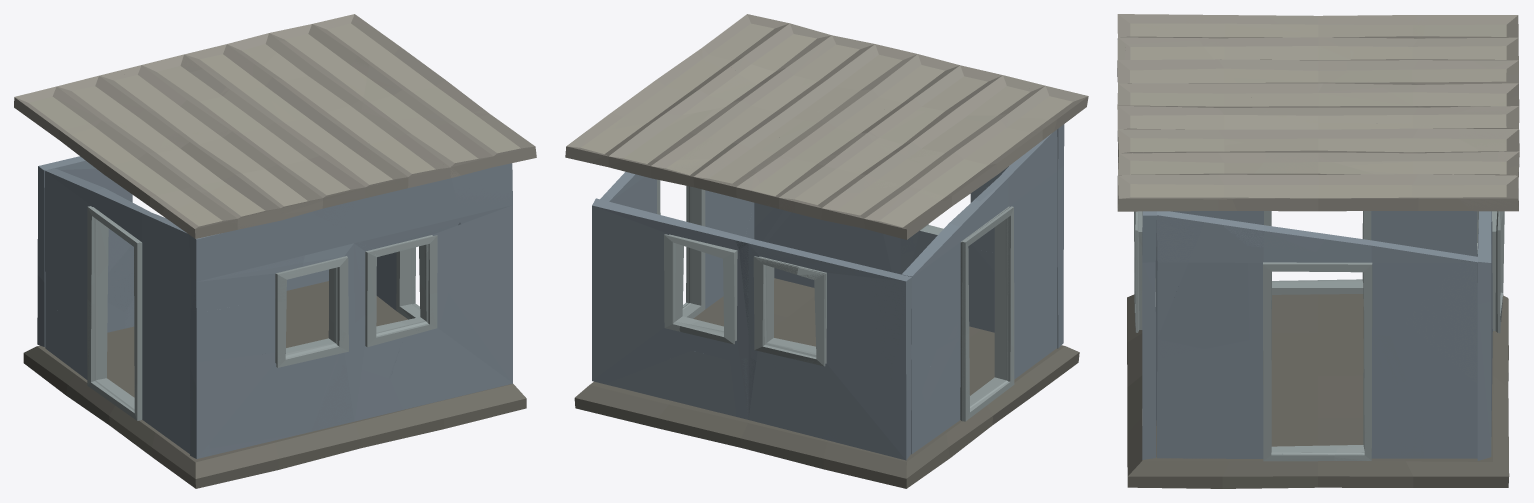
Rendered from Сabin.fbx.
3 renders of one model, left to right at view 1: azimuth 30°, elevation 25°; view 2: azimuth 150°, elevation 25°; view 3: azimuth 270°, elevation 25°, orthographic. The views are drawn at different scales.
Visible parts, largest first — view 1: Roof, Panel1, Foundation, Panel4, Panel1_cell.004, Panel1_cell.007, Panel1_cell.016, Roof_cell.007, Panel1_cell.002, Roof_cell, Panel4_cell.001, Panel2 (+27 smaller); view 2: Roof, Panel2, Panel4, Foundation, Panel1, Panel2_cell.011, Panel3, Panel2_cell.012, Roof_cell.007, Roof_cell, Panel2_cell.001, Roof_cell.002 (+20 smaller); view 3: Roof, Panel3, Foundation, Roof_cell.007, Panel3_cell, Roof_cell, Panel4, Panel1, Panel2, Roof_cell.013, Roof_cell.009, Panel4_cell.001 (+18 smaller).
Part boxes in pixels (x1,y1,x2,y2): Roof: (14, 14, 536, 238); Panel1: (189, 174, 512, 458); Foundation: (23, 281, 526, 488); Panel4: (45, 168, 190, 451); Panel1_cell.004: (189, 211, 314, 313); Panel1_cell.007: (190, 299, 346, 366); Panel1_cell.016: (420, 293, 512, 405); Roof_cell.007: (130, 130, 304, 214); Panel1_cell.002: (191, 342, 342, 455); Roof_cell: (361, 41, 483, 120); Panel4_cell.001: (55, 279, 142, 420); Panel2: (41, 156, 328, 345); Roof: (566, 14, 1088, 239); Panel2: (592, 198, 911, 460); Panel4: (902, 129, 1057, 454); Foundation: (574, 278, 1079, 488); Panel1: (754, 124, 1064, 348); Panel2_cell.011: (790, 252, 889, 416); Panel3: (605, 171, 754, 318); Panel2_cell.012: (605, 350, 736, 416); Roof_cell.007: (828, 104, 1057, 161); Roof_cell: (612, 52, 764, 128); Panel2_cell.001: (735, 241, 804, 373); Roof_cell.002: (795, 186, 949, 239); Roof: (1117, 14, 1519, 211); Panel3: (1156, 211, 1477, 461); Foundation: (1127, 294, 1509, 488); Roof_cell.007: (1184, 14, 1353, 117); Panel3_cell: (1156, 216, 1249, 357); Roof_cell: (1234, 152, 1449, 210); Panel4: (1171, 211, 1477, 294); Panel1: (1134, 211, 1156, 459); Panel2: (1477, 211, 1504, 460); Roof_cell.013: (1278, 123, 1518, 192); Roof_cell.009: (1117, 40, 1259, 128); Panel4_cell.001: (1272, 211, 1459, 294).
Bounding box in the file's own units: 650 × 485 × 600.
